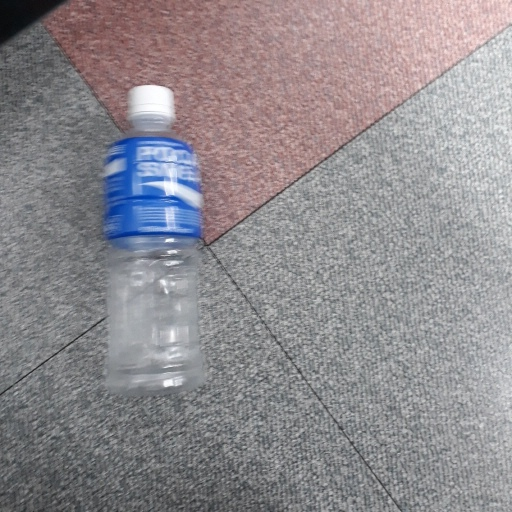Plastic_0: (98, 81, 202, 399)
